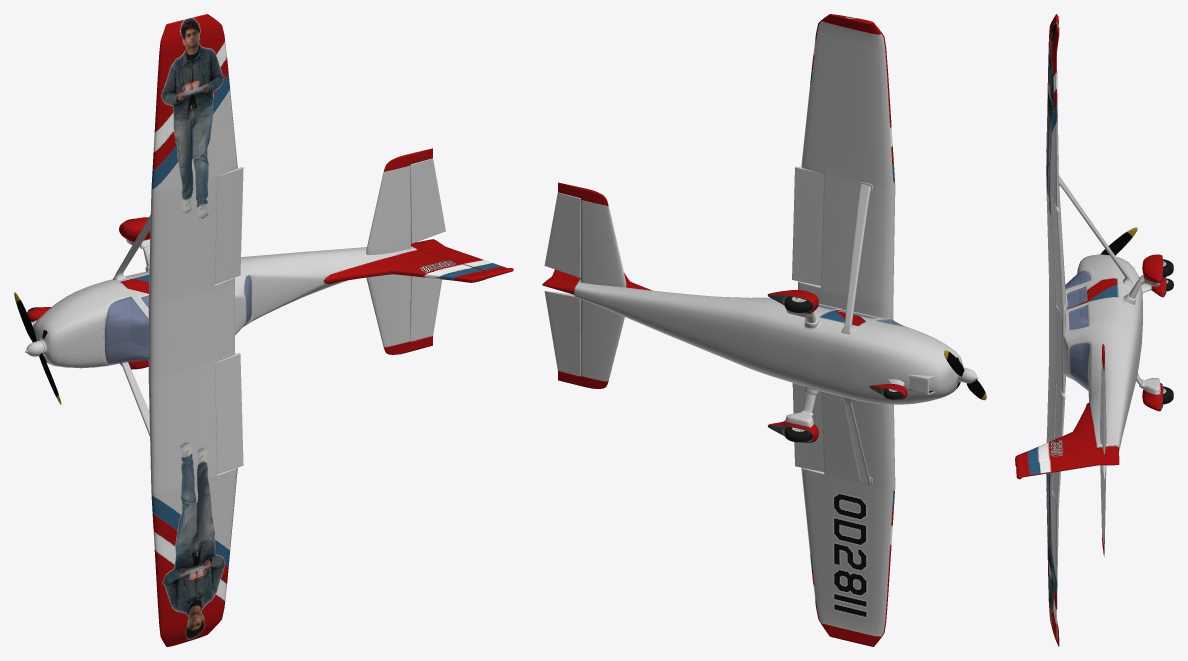
File: model_sarwar.gltf
3 renders of one model, left to right at view 1: azimuth 30°, elevation 25°; view 2: azimuth 150°, elevation 25°; view 3: azimuth 270°, elevation 25°, orthographic.
Parts seen in each view (by area): view 1: 11804_Airplane_body, 11804_Airplane_glass; view 2: 11804_Airplane_body; view 3: 11804_Airplane_body, 11804_Airplane_glass.
Part boxes in pixels (bbox=[...]): 11804_Airplane_body: bbox=[14, 14, 513, 646]; 11804_Airplane_glass: bbox=[105, 275, 251, 365]; 11804_Airplane_body: bbox=[542, 14, 986, 646]; 11804_Airplane_body: bbox=[1015, 14, 1173, 646]; 11804_Airplane_glass: bbox=[1065, 271, 1089, 390].
Size of the model in its own units: 827 by 1094 by 256.
Materials: 2 (2 with a texture image).
